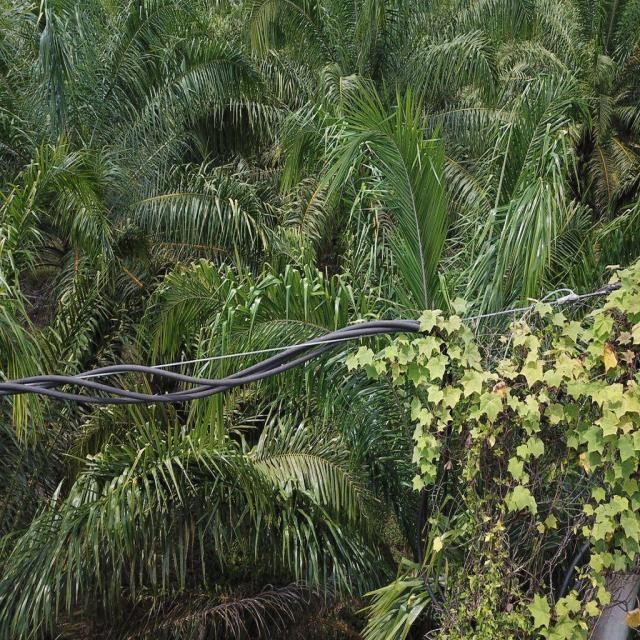critical vegetation: (388, 260, 640, 636)
